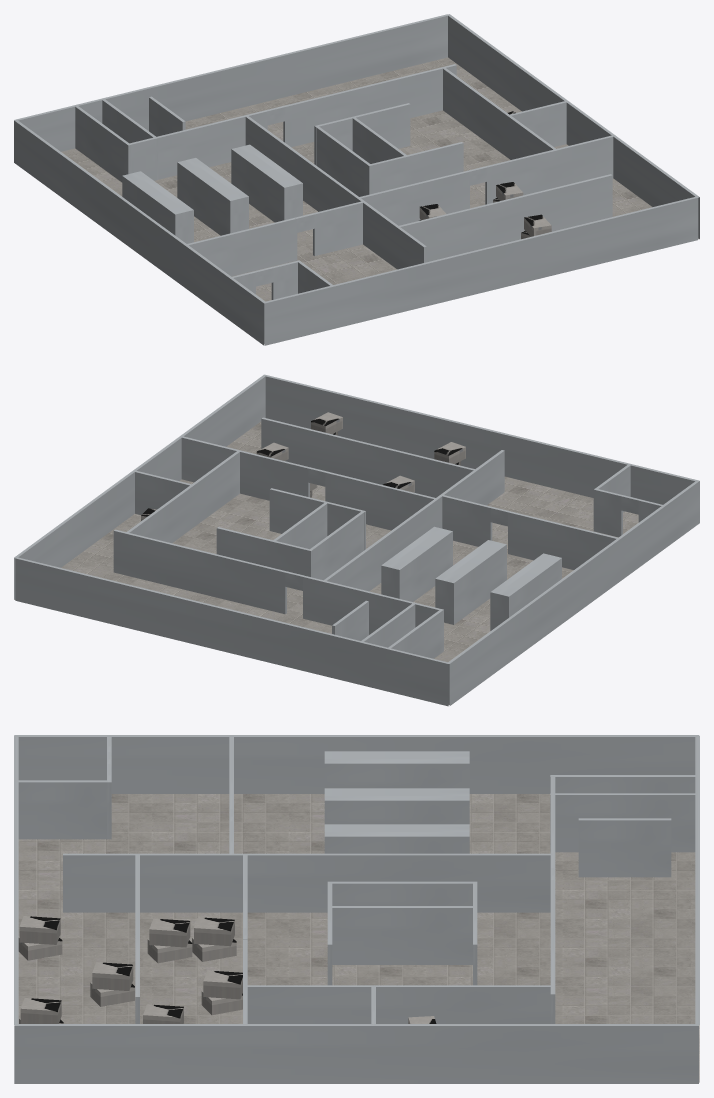
The model's file is stage.fbx.
3 views of the same model, one above another, from view 1: azimuth 30°, elevation 25°; view 2: azimuth 150°, elevation 25°; view 3: azimuth 270°, elevation 25° (orthographic). The views are drawn at different scales.
Visible parts, largest first — view 1: Wall_Big4, Wall_Big3, Floor, Wall_Big1, Wall_Big2, Wall_Temple.005, Wall_Temple.003, Wall_Temple.021, Wall_Temple.019, Wall_Temple.002, Wall_Temple.029, Wall_Temple.016 (+15 smaller); view 2: Wall_Big3, Wall_Big4, Floor, Wall_Big1, Wall_Big2, Wall_Temple.021, Wall_Temple.005, Wall_Temple.003, Wall_Temple.019, Wall_Temple.029, Wall_Temple.027, Wall_Temple.016 (+17 smaller); view 3: Floor, Wall_Big2, Wall_Big1, Wall_Temple.003, Wall_Temple.029, Wall_Temple.012, Wall_Temple.007, Wall_Temple.028, Wall_Temple.027, Wall_Temple.006, Wall_Temple.013, Wall_Temple.026 (+20 smaller).
Boxes of the visible parts, <box> form: Wall_Big4: <box>264,197,698,345</box>; Wall_Big3: <box>14,14,448,151</box>; Floor: <box>61,57,698,301</box>; Wall_Big1: <box>14,120,266,345</box>; Wall_Big2: <box>448,14,699,239</box>; Wall_Temple.005: <box>397,174,612,262</box>; Wall_Temple.003: <box>245,115,426,269</box>; Wall_Temple.021: <box>283,64,456,147</box>; Wall_Temple.019: <box>485,135,614,204</box>; Wall_Temple.002: <box>127,110,267,180</box>; Wall_Temple.029: <box>442,68,555,159</box>; Wall_Temple.016: <box>186,217,297,276</box>; Wall_Big3: <box>15,557,449,706</box>; Wall_Big4: <box>265,375,696,504</box>; Floor: <box>14,421,638,662</box>; Wall_Big1: <box>448,480,699,705</box>; Wall_Big2: <box>14,374,266,599</box>; Wall_Temple.021: <box>113,529,286,614</box>; Wall_Temple.005: <box>261,417,476,497</box>; Wall_Temple.003: <box>323,450,504,591</box>; Wall_Temple.019: <box>181,436,309,500</box>; Wall_Temple.029: <box>125,451,239,543</box>; Wall_Temple.027: <box>435,540,506,624</box>; Wall_Temple.016: <box>508,511,617,569</box>; Floor: <box>18,794,699,1082</box>; Wall_Big2: <box>14,1024,698,1083</box>; Wall_Big1: <box>14,735,698,793</box>; Wall_Temple.003: <box>63,853,552,912</box>; Wall_Temple.029: <box>247,985,552,1023</box>; Wall_Temple.012: <box>332,906,472,964</box>; Wall_Temple.007: <box>578,818,671,877</box>; Wall_Temple.028: <box>324,751,469,788</box>; Wall_Temple.027: <box>324,788,469,824</box>; Wall_Temple.006: <box>550,793,696,852</box>; Wall_Temple.013: <box>16,780,106,839</box>; Wall_Temple.026: <box>324,824,469,853</box>.
Bounding box in the file's own units: 30157 × 2840 × 30056.
Materials: 3 (3 with a texture image).
